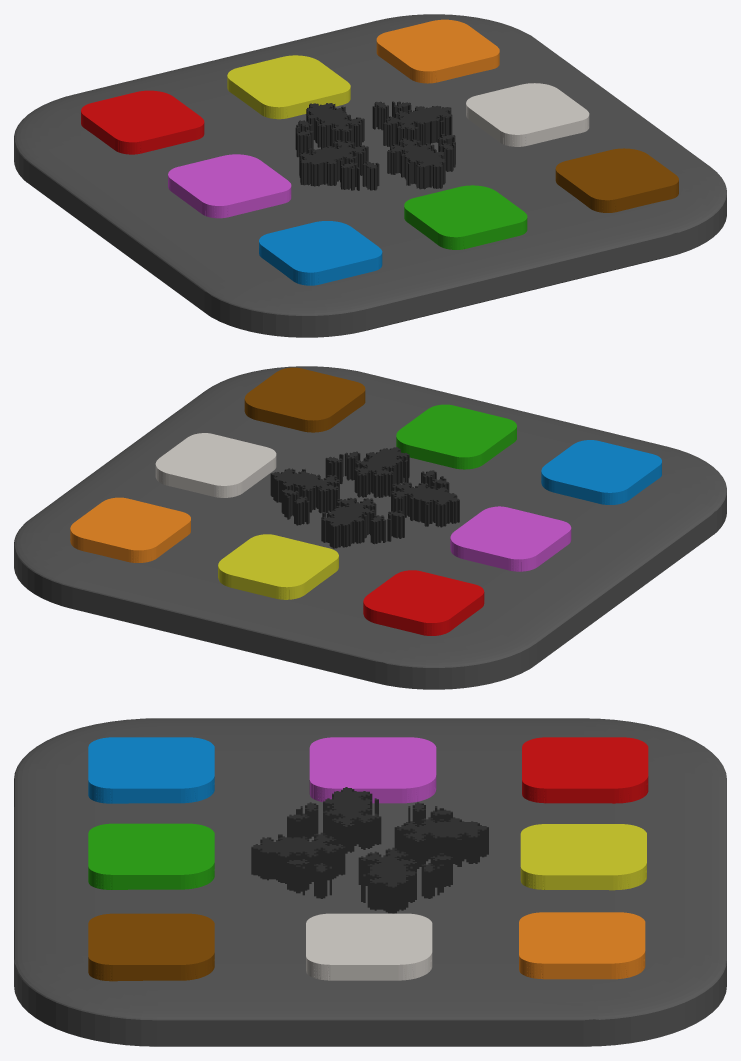
The model's file is doorpad.fbx.
3 views of the same model, one above another, from view 1: azimuth 30°, elevation 25°; view 2: azimuth 150°, elevation 25°; view 3: azimuth 270°, elevation 25° (orthographic). The views are drawn at different scales.
Parts seen in each view (by area): view 1: Pad, Pad (1), Button, Button.004, Button.003, Button.002, Button.001, Button.005, Button.007, Button.006; view 2: Pad, Pad (1), Button.002, Button.006, Button.005, Button.001, Button.004, Button, Button.007, Button.003; view 3: Pad, Pad (1), Button.004, Button.005, Button.007, Button.003, Button, Button.002, Button.006, Button.001.
Part boxes in pixels (box(x1,y1,x2,y2)): Pad: box(14, 14, 726, 337); Pad (1): box(295, 101, 455, 190); Button: box(259, 221, 382, 285); Button.004: box(555, 148, 678, 212); Button.003: box(404, 185, 527, 249); Button.002: box(81, 90, 204, 154); Button.001: box(168, 154, 291, 218); Button.005: box(376, 19, 499, 83); Button.007: box(466, 83, 589, 146); Button.006: box(227, 55, 350, 119); Pad: box(14, 366, 726, 689); Pad (1): box(270, 447, 459, 548); Button.002: box(363, 570, 484, 635); Button.006: box(218, 534, 338, 599); Button.005: box(70, 497, 190, 562); Button.001: box(450, 506, 571, 571); Button.004: box(244, 367, 365, 432); Button: box(541, 440, 661, 504); Button.007: box(155, 433, 276, 497); Button.003: box(396, 404, 516, 469); Pad: box(14, 718, 726, 1046); Pad (1): box(251, 787, 488, 913); Button.004: box(88, 913, 214, 981); Button.005: box(519, 912, 645, 979); Button.007: box(306, 913, 432, 980); Button.003: box(88, 823, 214, 889); Button: box(88, 737, 214, 803); Button.002: box(522, 737, 648, 803); Button.006: box(520, 824, 646, 890); Button.001: box(309, 737, 436, 803).
Bounding box in the file's own units: 3000 × 324 × 3000.
